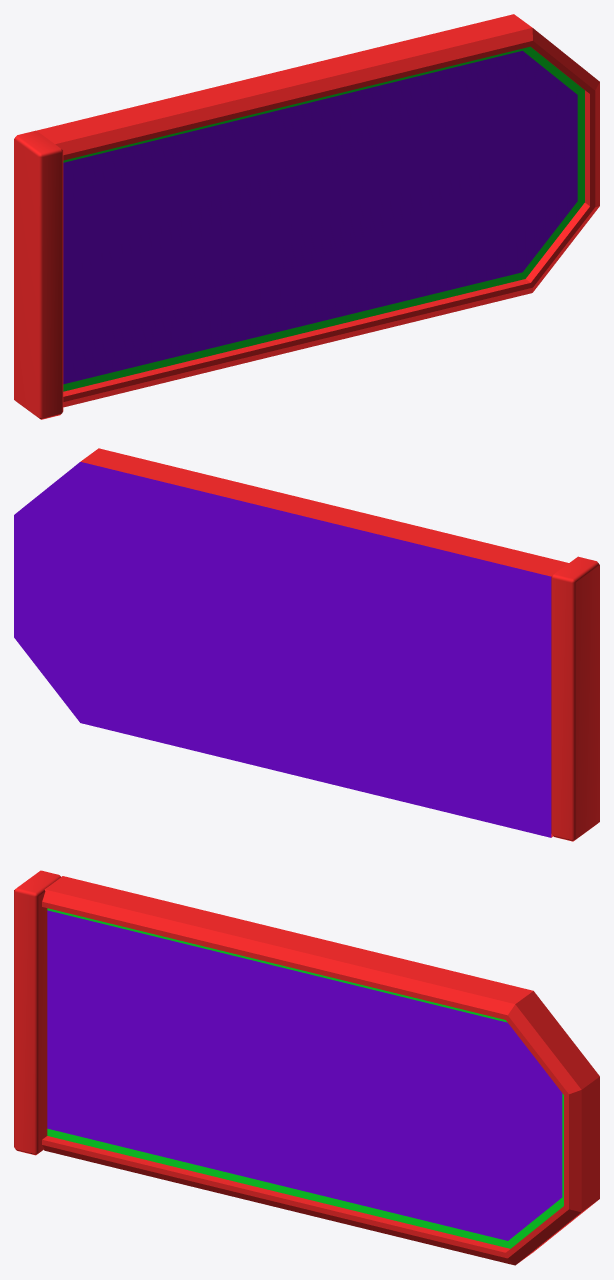
File: SM_Wall_Sign.fbx
3 renders of one model, top to bottom at view 1: azimuth 30°, elevation 25°; view 2: azimuth 150°, elevation 25°; view 3: azimuth 330°, elevation 25°, orthographic.
Visible parts, largest first — view 1: SM_Wall_Sign; view 2: SM_Wall_Sign; view 3: SM_Wall_Sign.
Boxes of the visible parts, x1,y1,x2,y2 form: SM_Wall_Sign: (14, 14, 599, 419); SM_Wall_Sign: (14, 448, 599, 841); SM_Wall_Sign: (14, 870, 599, 1265).
Bounding box in the file's own units: 600 × 269 × 50.51.
